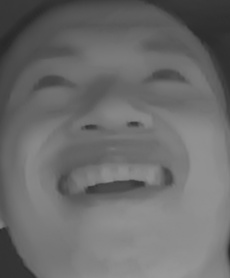eye: (28, 69, 78, 100), (142, 62, 192, 93)
mouth: (43, 140, 183, 216)
